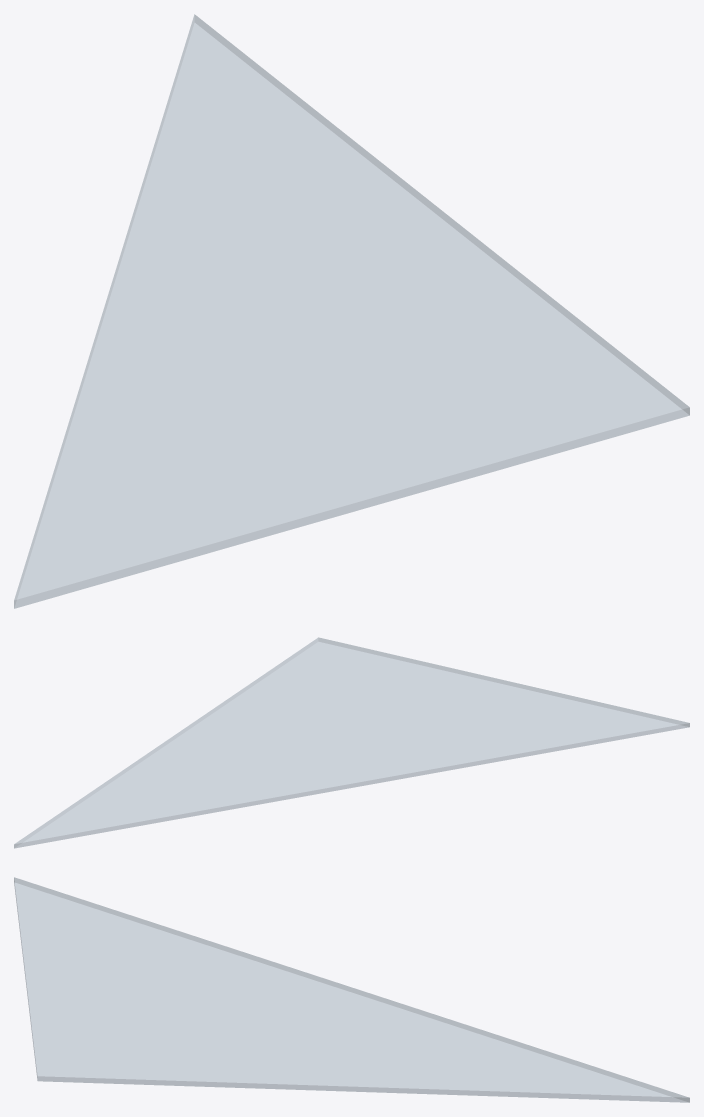
3 renders of one model, top to bottom at view 1: azimuth 30°, elevation 25°; view 2: azimuth 150°, elevation 25°; view 3: azimuth 270°, elevation 25°, orthographic. The views are drawn at different scales.
Parts seen in each view (by area): view 1: HST290012_750000.001; view 2: HST290012_750000.001; view 3: HST290012_750000.001.
Part boxes in pixels (x1=…): HST290012_750000.001: x1=14, y1=14, x2=689, y2=608; HST290012_750000.001: x1=14, y1=637, x2=689, y2=848; HST290012_750000.001: x1=14, y1=877, x2=689, y2=1102.
Size of the model in its own units: 786 by 22.21 by 1030.
